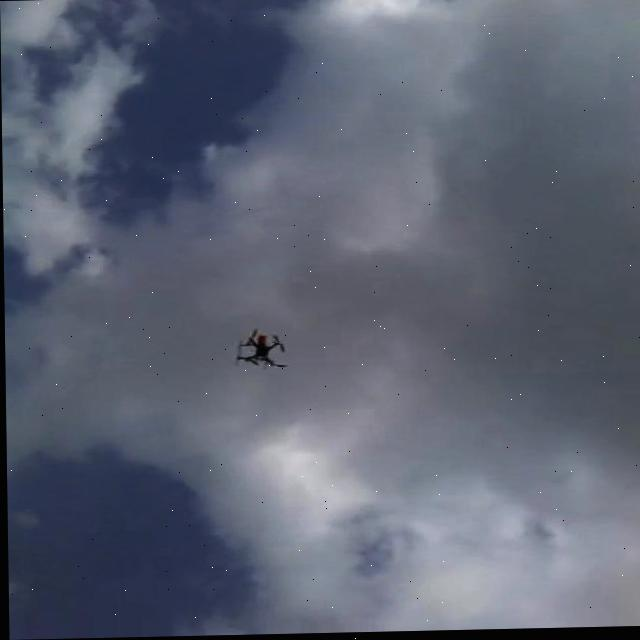drone: (228, 325, 294, 372)
